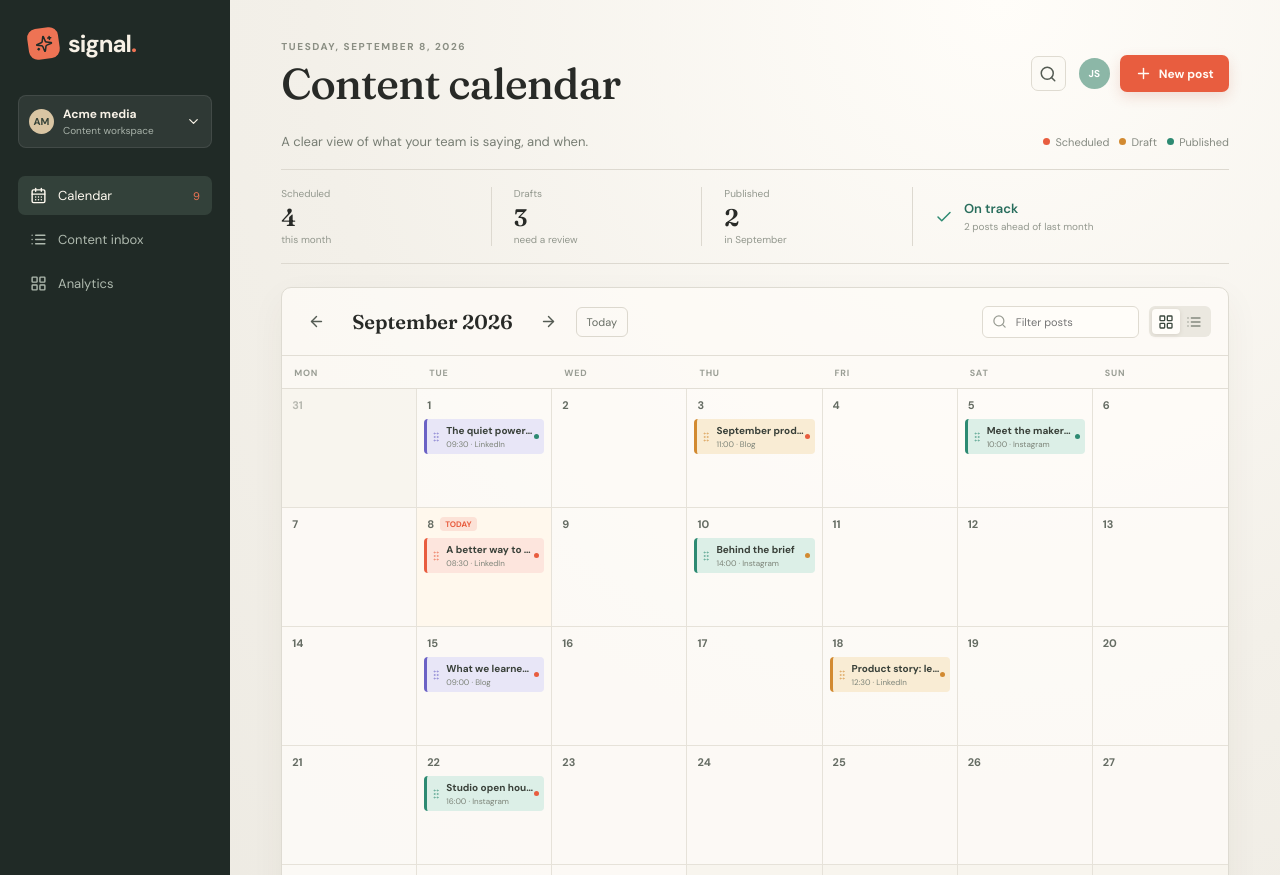
calendar interface › switches between month and list views
The width and height of the screenshot is (1280, 875).
Click the button named "list view". click: point(1194, 322)
box: [1180,309,1208,334]
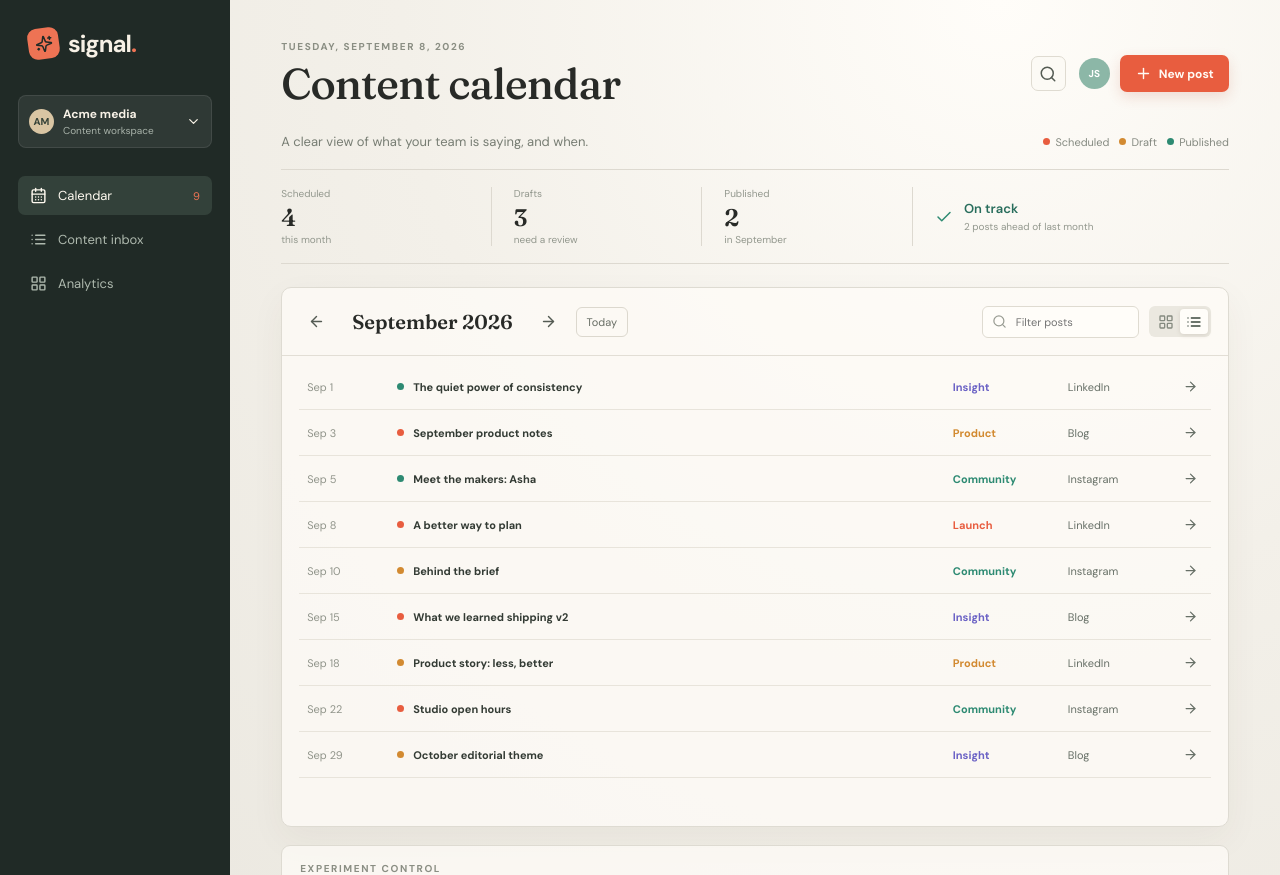
Expected: the text "The quiet power of consistency" is shown, [413,380,582,394]
Click the button named "month view". click: point(1166, 322)
box: [1152,309,1180,334]
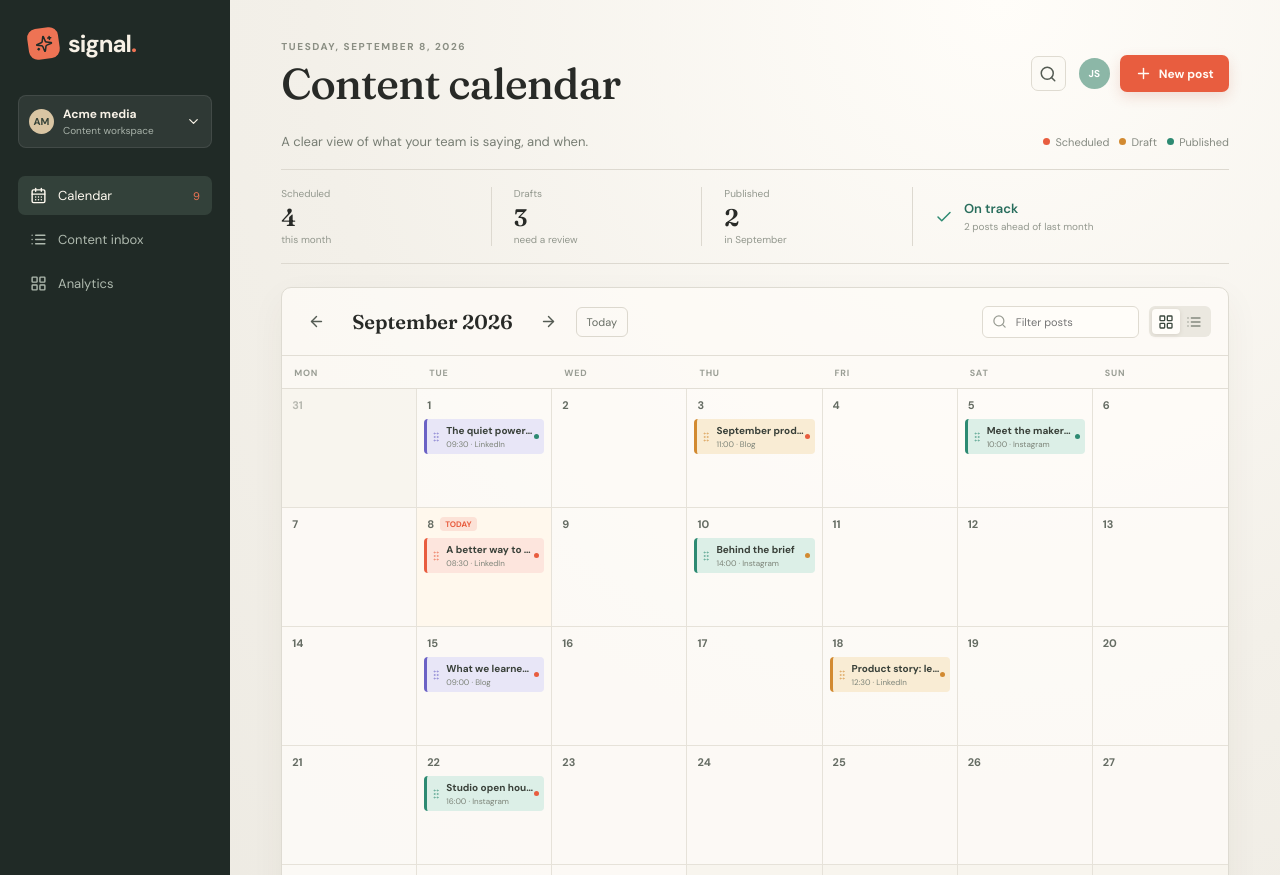
Now the text "Mon" is shown, box [294,367,318,379]
